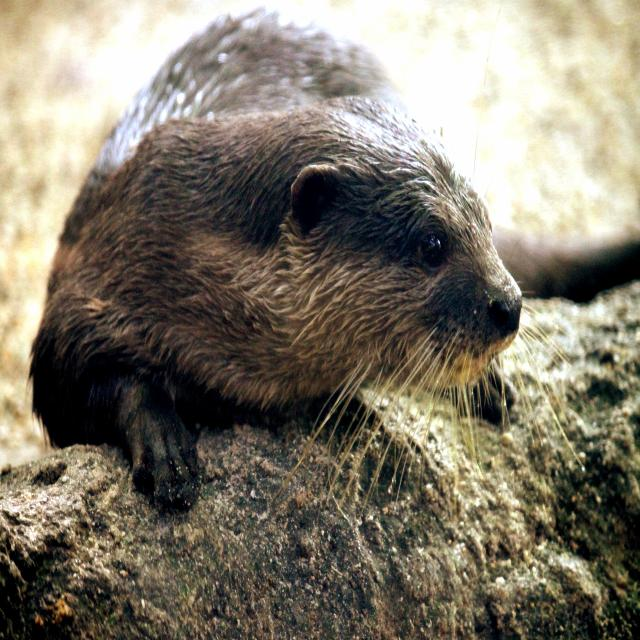otter: (129, 114, 521, 497)
